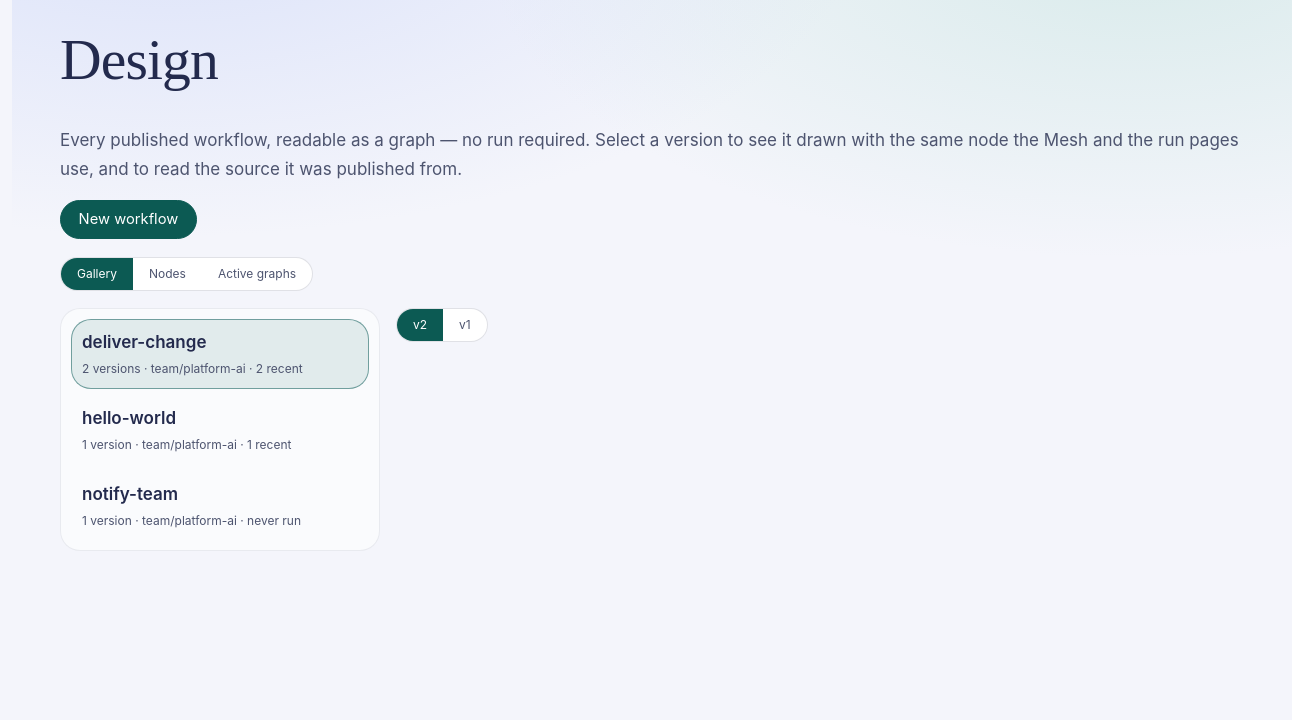
Test case: Design gallery: every published version as a graph › keeps the selection in the URL, so a graph is a link and not a click path
Expected: the text "hello-world" is shown, [82, 404, 176, 433]
Click the button "hello-world 1 version · team/platform-ai · 1 recent": (129, 418) [71, 395, 369, 465]
(page scrolled)
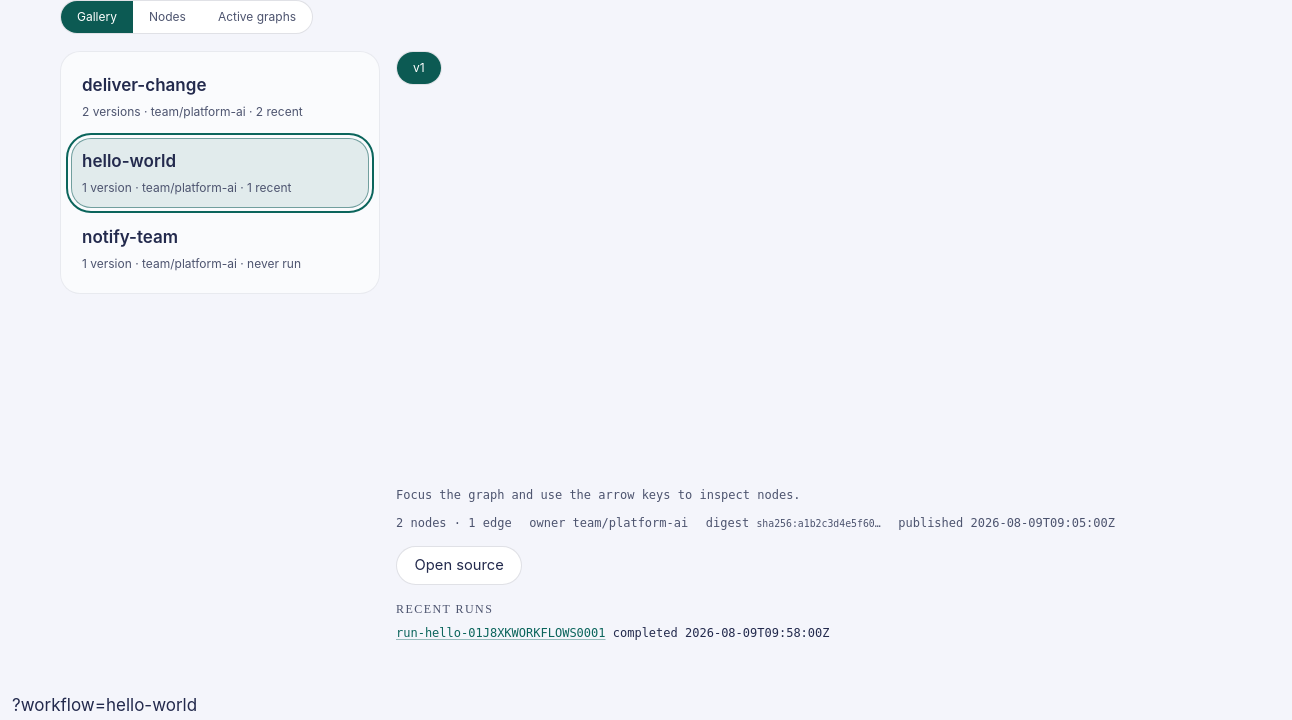
Result: the text with test id "location-search" shows "workflow=hello-world" at [12, 695, 197, 715]
